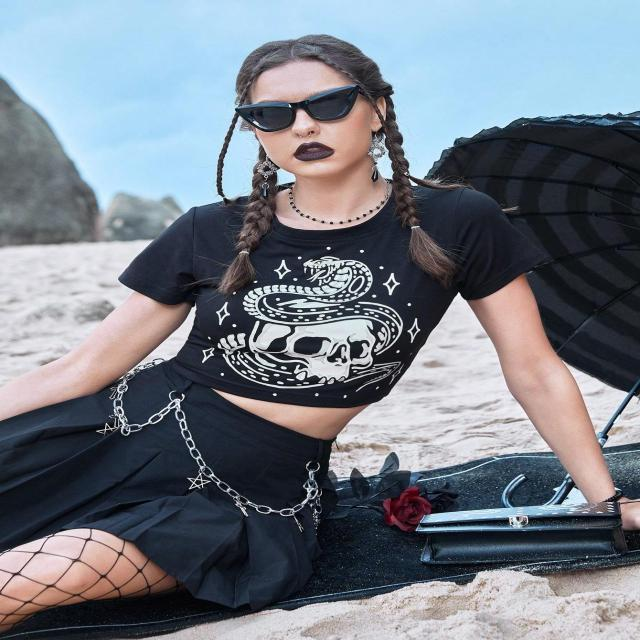Earring: (252, 146, 280, 208), (364, 134, 393, 170)
